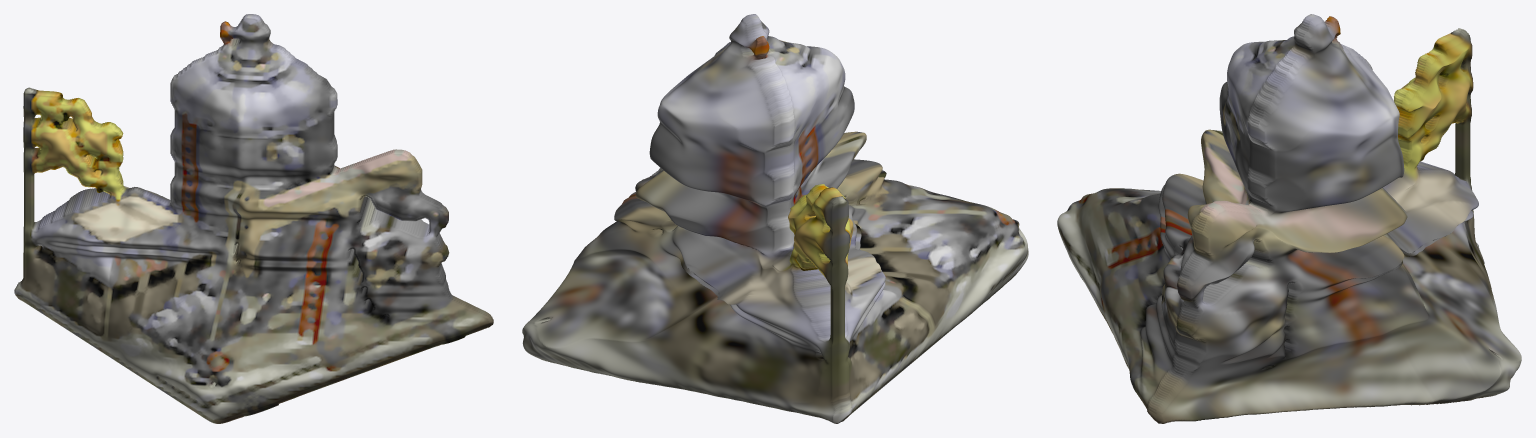
Rendered from tech_oil_derrick.glb.
3 views of the same model, side by side, from view 1: azimuth 30°, elevation 25°; view 2: azimuth 150°, elevation 25°; view 3: azimuth 270°, elevation 25° (orthographic). The views are drawn at different scales.
Visible parts, largest first — view 1: tech_oil_derrick; view 2: tech_oil_derrick; view 3: tech_oil_derrick.
Part boxes in pixels (x1,y1,x2,y2): tech_oil_derrick: [14, 14, 493, 423]; tech_oil_derrick: [522, 14, 1028, 423]; tech_oil_derrick: [1057, 14, 1521, 423].
Bounding box in the file's own units: 1.78 × 1.5 × 1.98.
